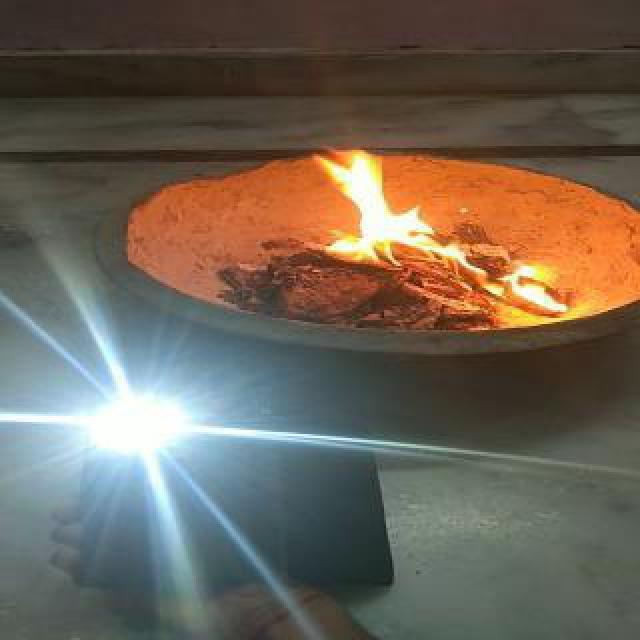zfire: (304, 156, 572, 314)
